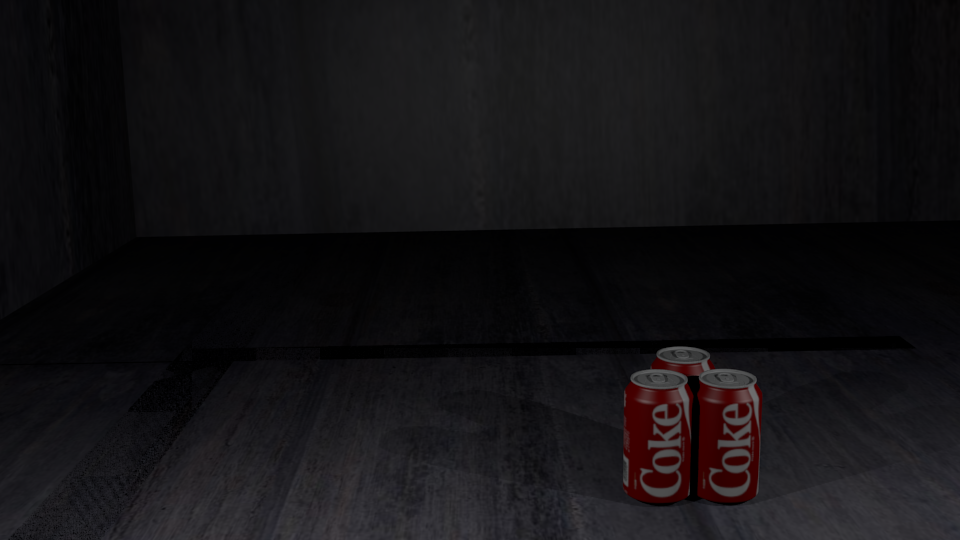cola_can: (692, 369, 761, 498), (624, 370, 692, 499), (651, 347, 714, 469)
